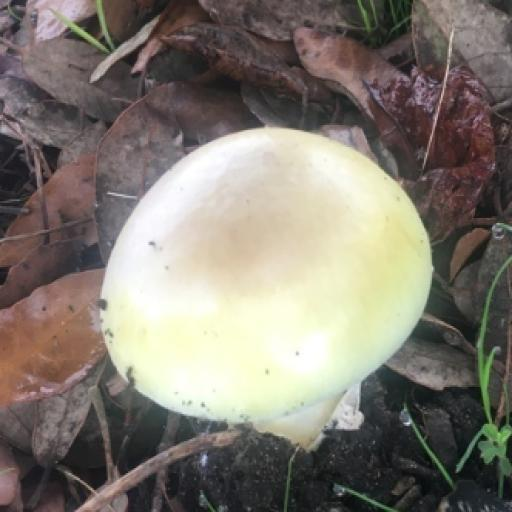mushroom: (52, 72, 477, 499)
